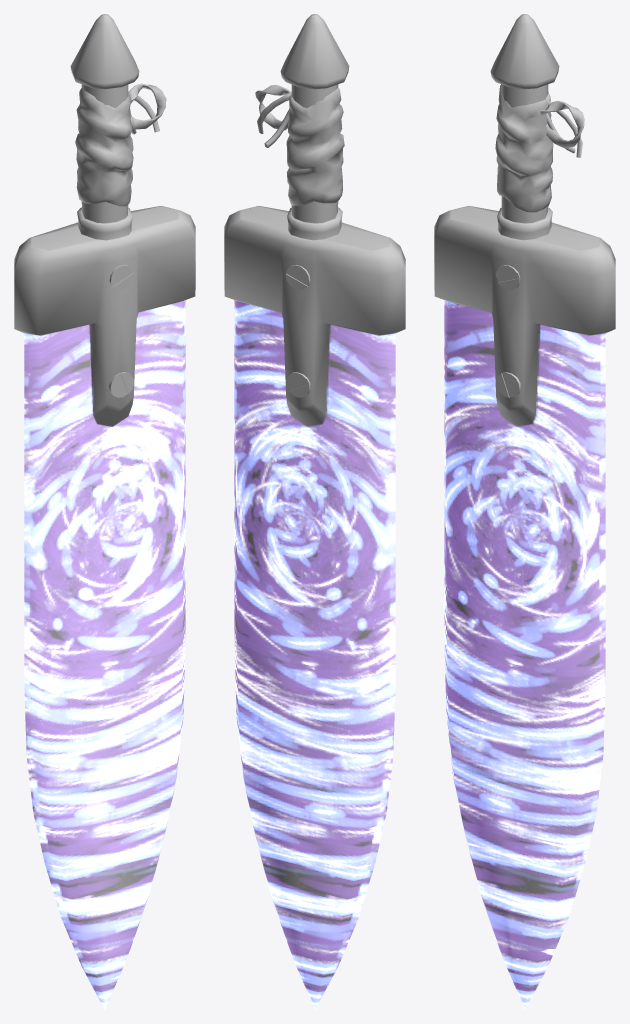
File: blade.gltf
3 renders of one model, left to right at view 1: azimuth 30°, elevation 25°; view 2: azimuth 150°, elevation 25°; view 3: azimuth 330°, elevation 25°, orthographic.
Parts seen in each view (by area): view 1: Blade; view 2: Blade; view 3: Blade.
Part boxes in pixels (<box>): Blade: <box>14,14,195,1009</box>; Blade: <box>224,14,405,1009</box>; Blade: <box>434,14,615,1009</box>.
Size of the model in its own units: 0.8309 by 4.36 by 0.278.
